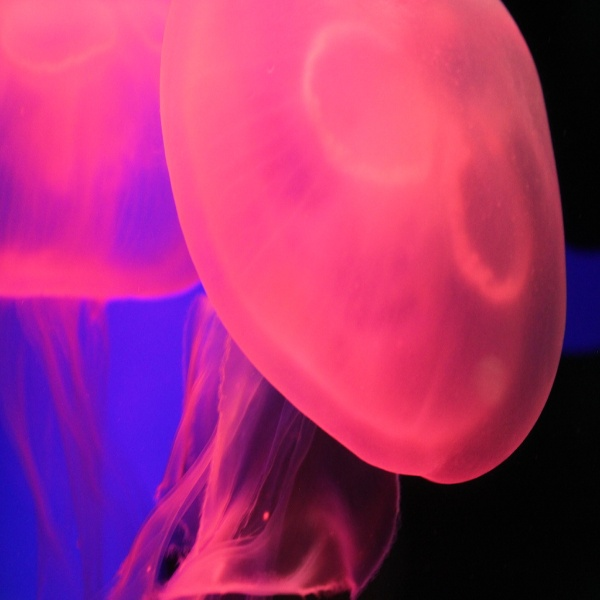Jellyfish: (107, 1, 566, 599)
